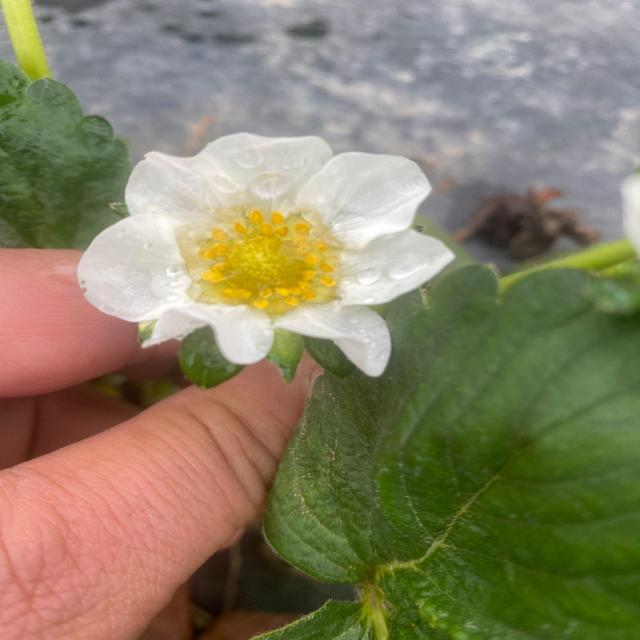flower: (82, 130, 451, 378)
